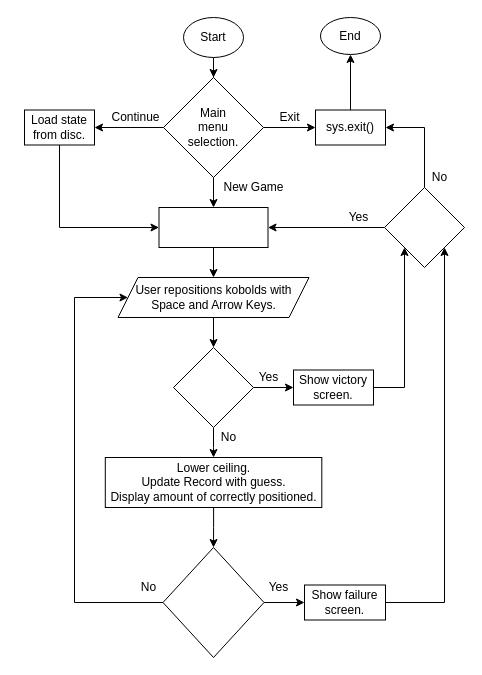
This 482x675 diagram has some shape labels left out. Each missing label, with the centre of its shape:
"Ceiling has reached floor?" belongs at pixel 213 602.
"Correct positions?" belongs at pixel 213 387.
"Initialize gameplay variables." belongs at pixel 213 227.
"Restart?" belongs at pixel 424 227.
